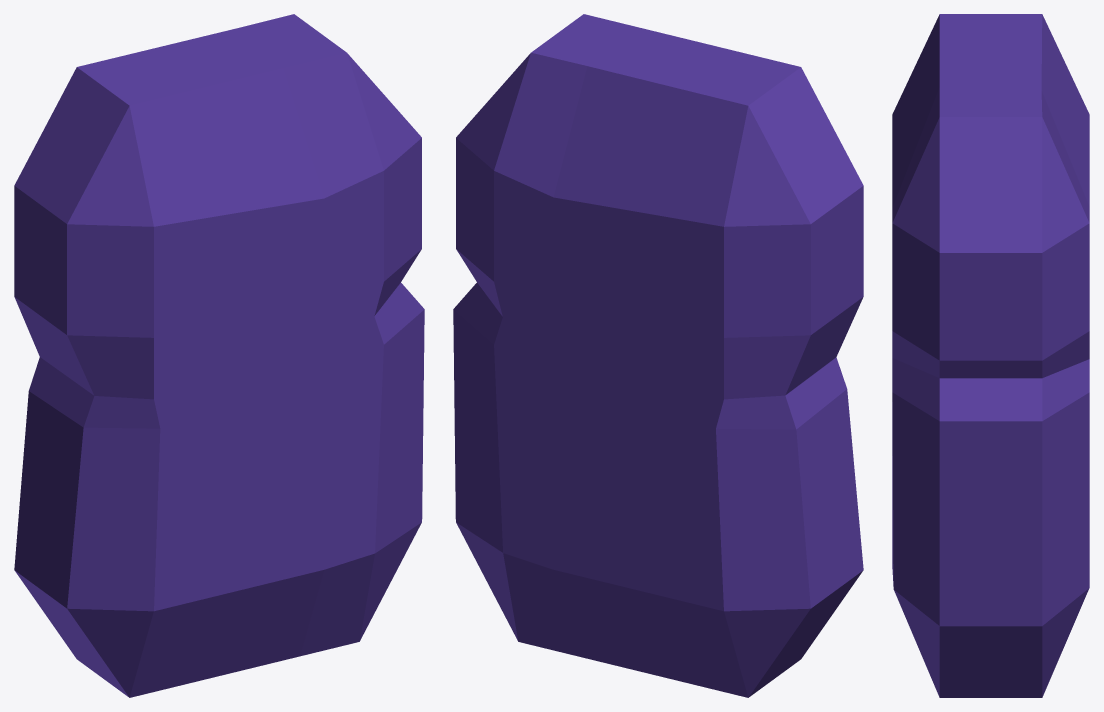
Rendered from crystal1-damaged-8ec9d97d3b.glb.
3 renders of one model, left to right at view 1: azimuth 30°, elevation 25°; view 2: azimuth 150°, elevation 25°; view 3: azimuth 270°, elevation 25°, orthographic. The views are drawn at different scales.
Visible parts, largest first — view 1: Crystal1_Damaged.obj; view 2: Crystal1_Damaged.obj; view 3: Crystal1_Damaged.obj.
Part boxes in pixels (box(x1,y1,x2,y2)): Crystal1_Damaged.obj: box(14, 14, 424, 697); Crystal1_Damaged.obj: box(453, 14, 863, 697); Crystal1_Damaged.obj: box(892, 14, 1089, 697).
Bounding box in the file's own units: 0.4874 × 0.7716 × 0.2397.
